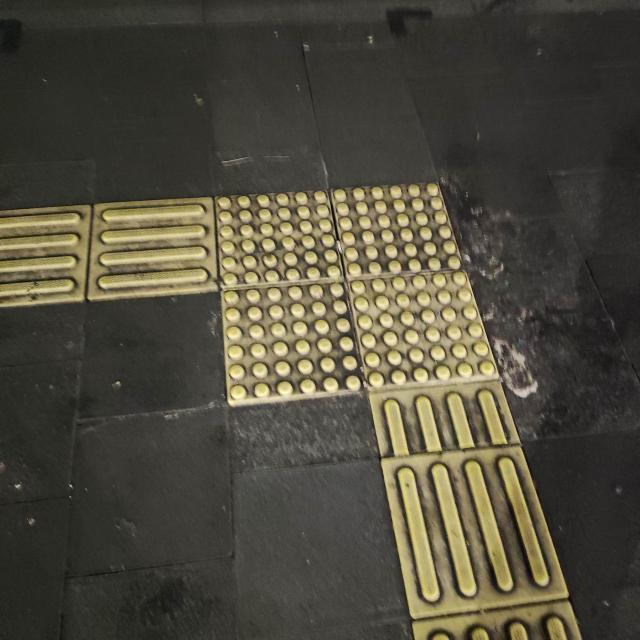kiri: (33, 140, 626, 526)
